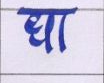aa_matra: (61, 15, 65, 50)
